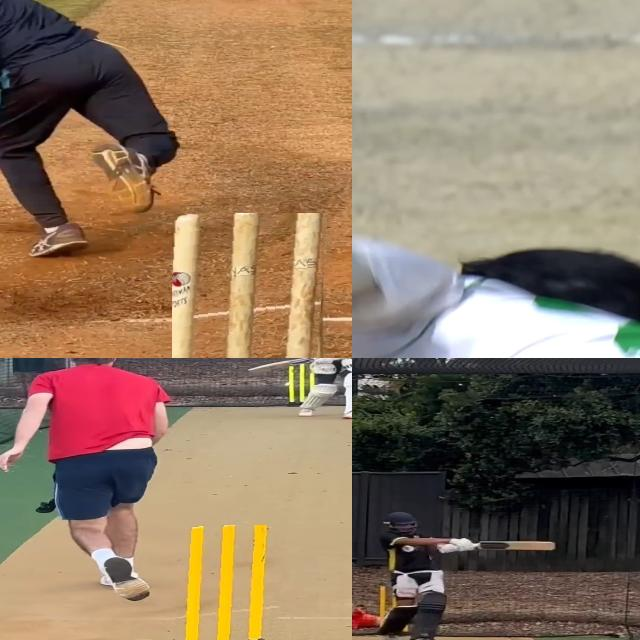Cricket ball: (284, 380, 292, 388)
Stumps: (172, 213, 329, 358), (175, 525, 287, 640), (286, 362, 316, 406)
